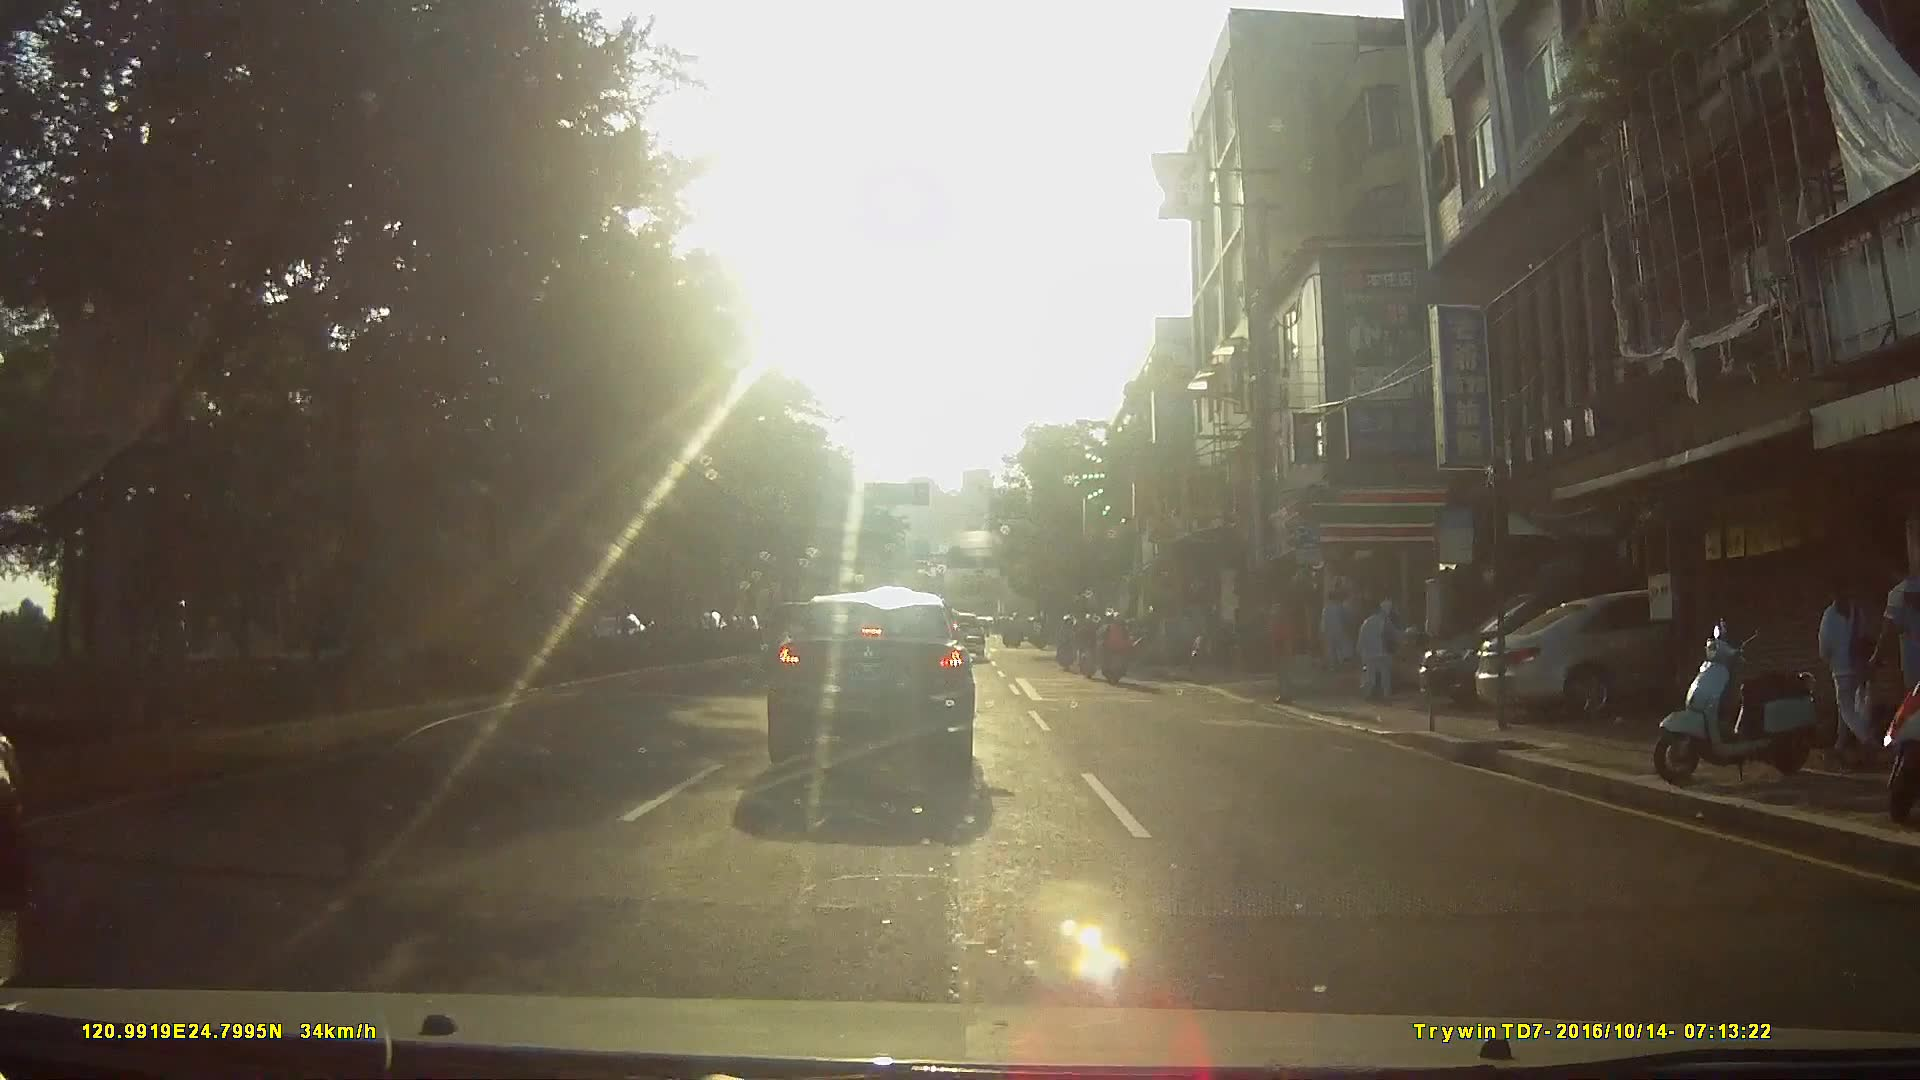pedestrian: (1820, 568, 1882, 758), (1872, 555, 1920, 760), (1352, 588, 1399, 699), (1269, 591, 1299, 699)
rider: (1095, 601, 1134, 681), (1074, 610, 1100, 680), (1055, 612, 1079, 673)
vehicle: (1465, 581, 1849, 721), (748, 576, 996, 777)
